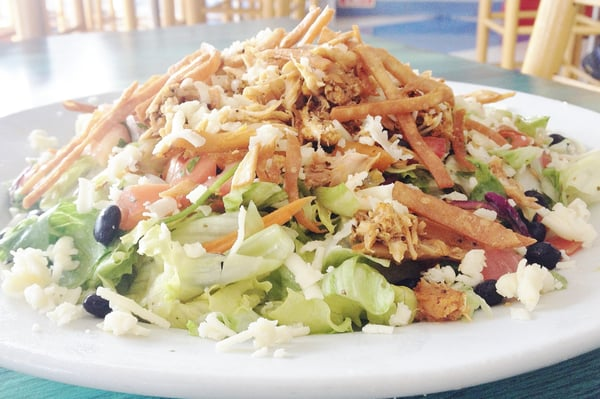pizza: (397, 114, 455, 192), (117, 184, 171, 233)
